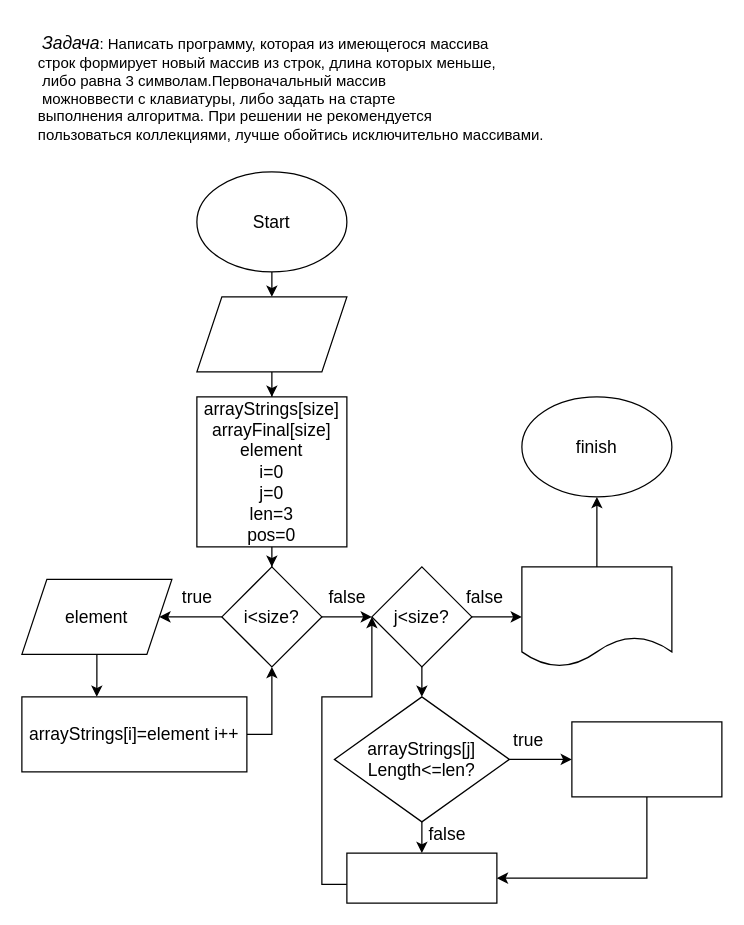
This 744x925 diagram has some shape labels left out. The box of each missing label's shape, as (x1, y1, x2, y2) in pixels:
arrayFinal: (521, 566, 672, 667)
arrayFinal[pos]= arrayStrings[j] pos++: (571, 721, 722, 797)
j++: (346, 852, 497, 903)
Size: (196, 296, 347, 372)
